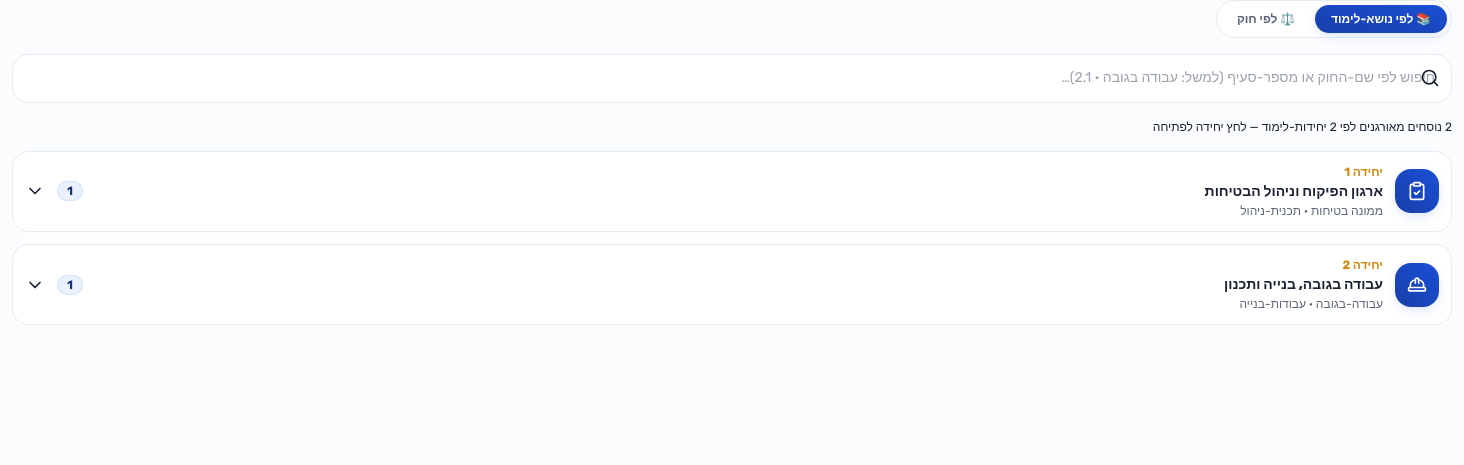
Test: LegislationLibrary — מפת-נושאים (ברירת-מחדל) › פתיחת-מדף-נושא חושפת כפתור "תרגל יחידה זו" + פריטים
The image size is (1464, 465).
Click the button with test id "topic-shelf-gova".
click(1417, 285)  # box [13,245,1451,324]
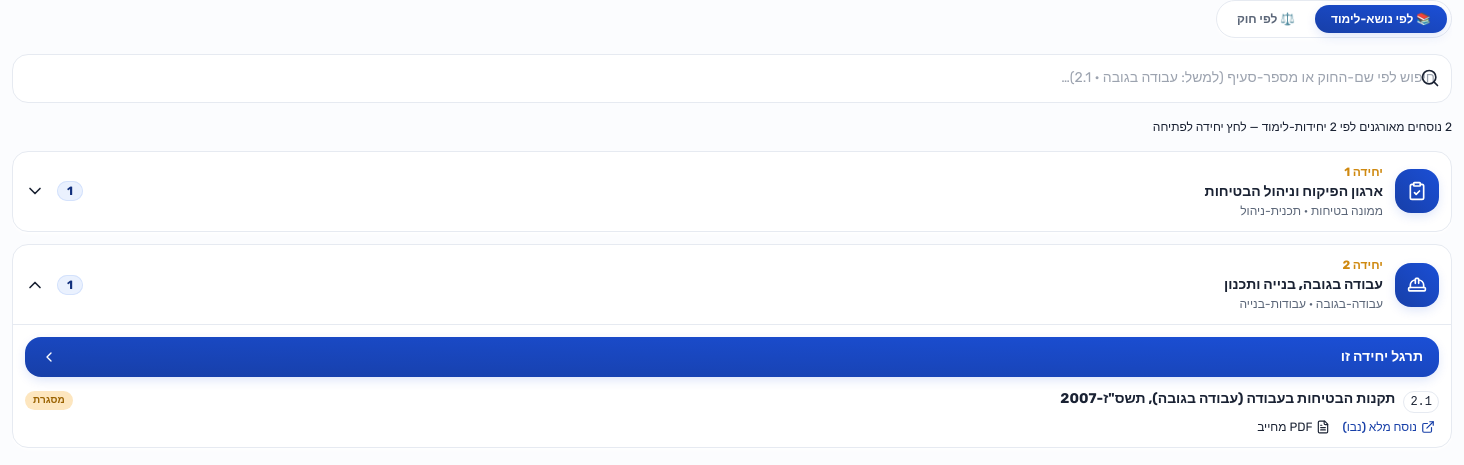
Now the list item with test id "legislation-item-2.1" is shown, box [25,377,1439,447]
Now the link with test id "practice-t-gova" reads "תרגל יחידה זו", box [25,337,1439,377]
